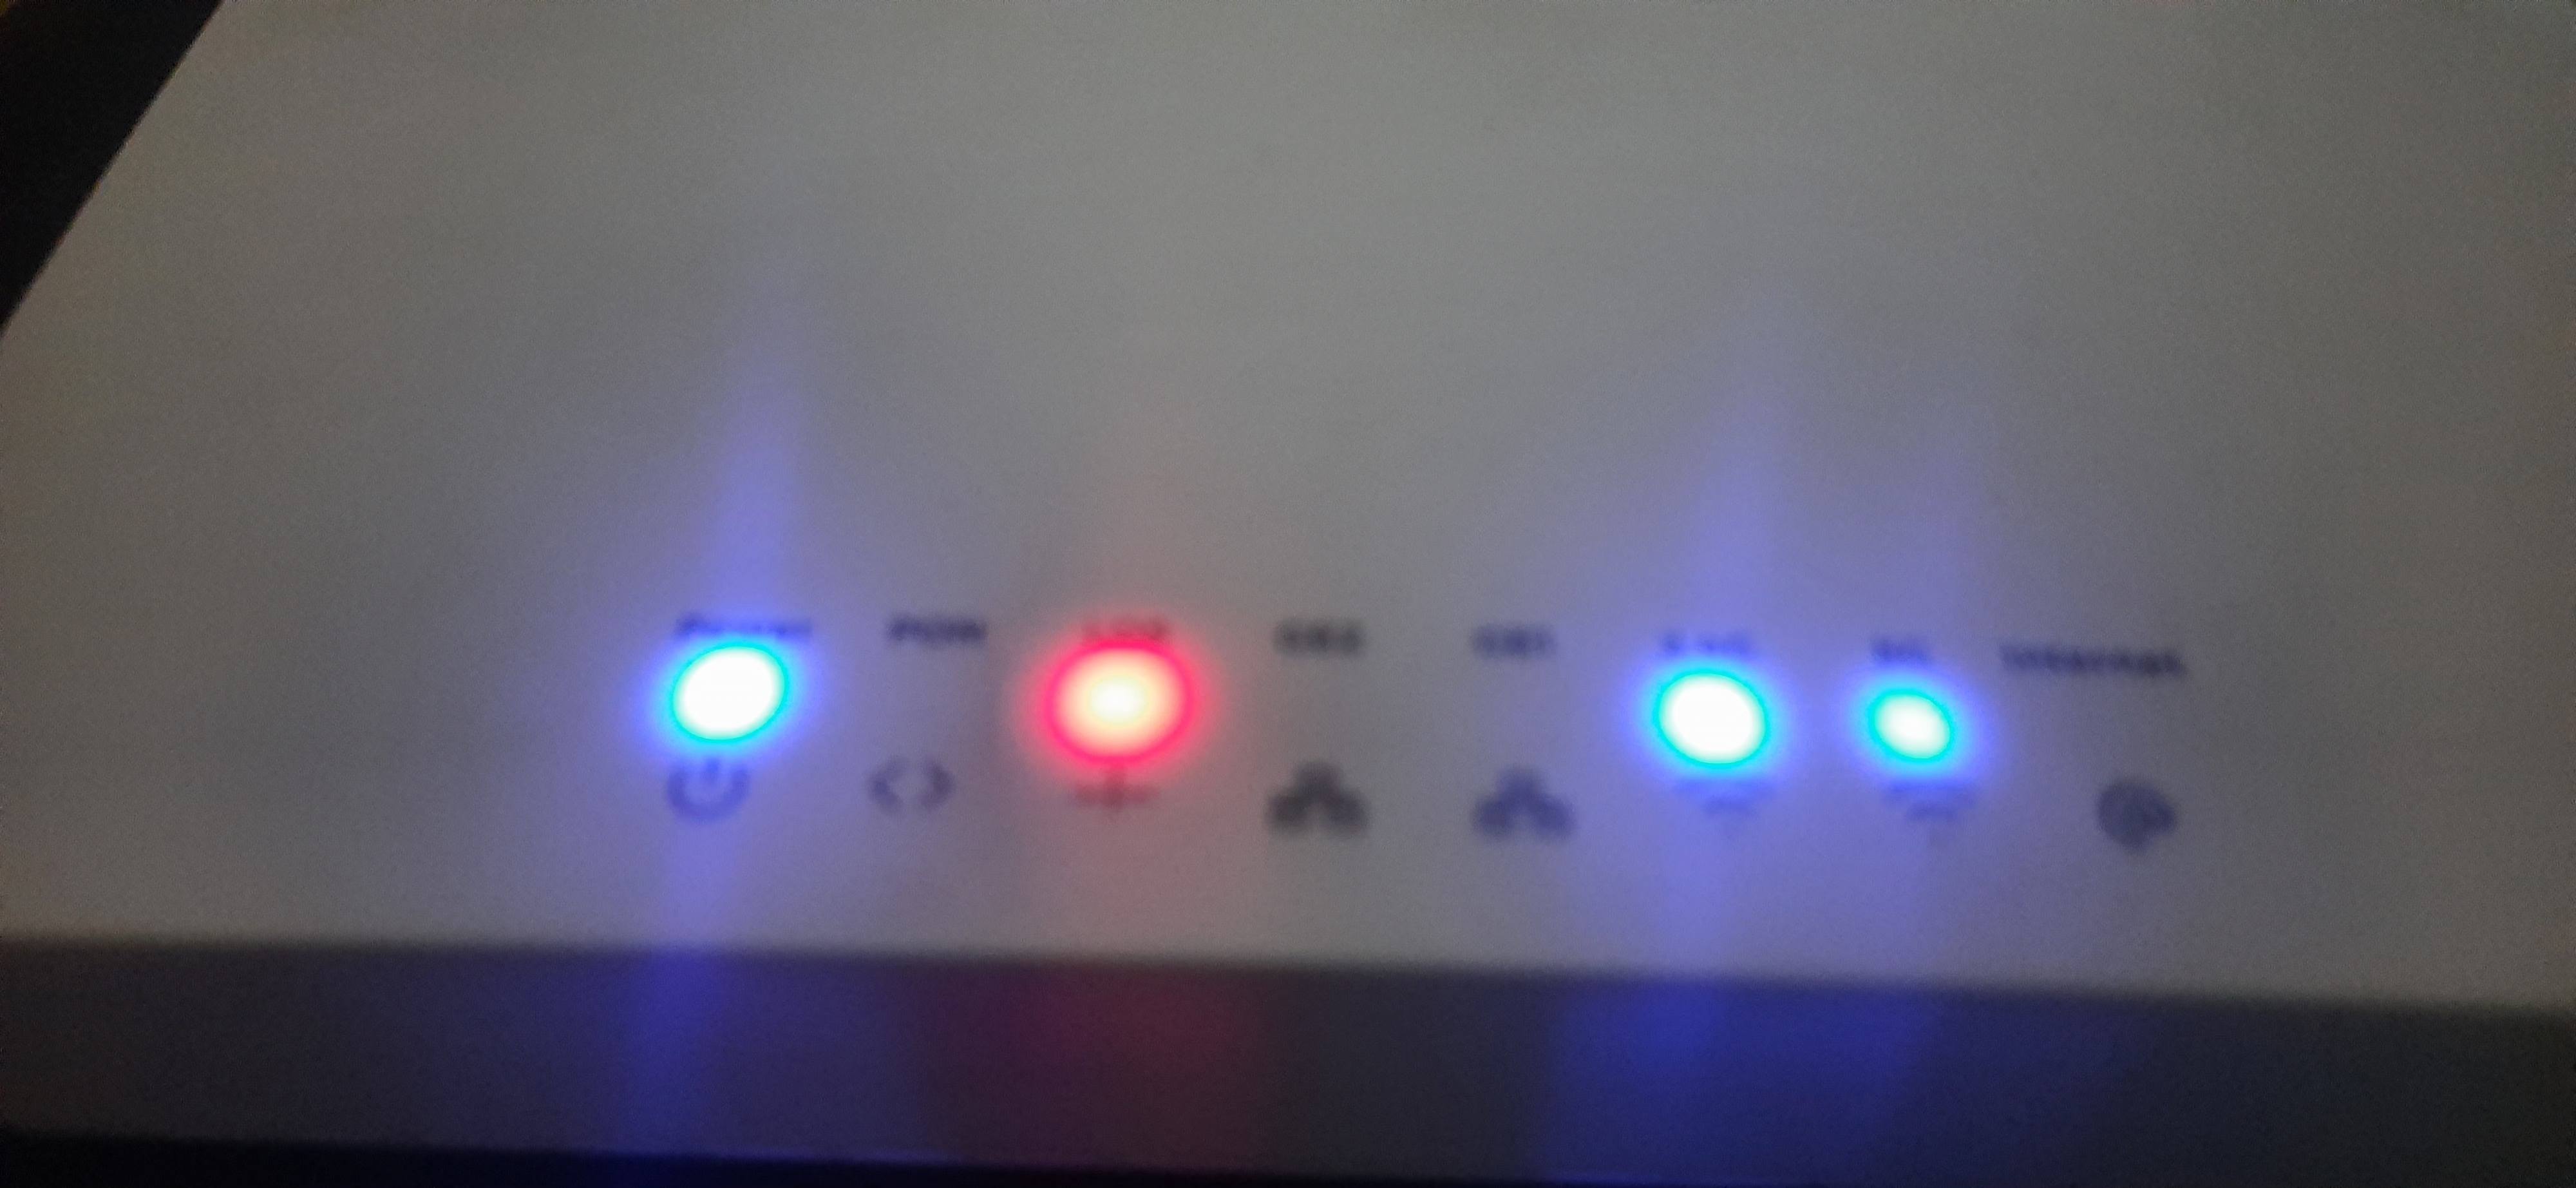LOSConnectionIssue: (996, 573, 1275, 877)
